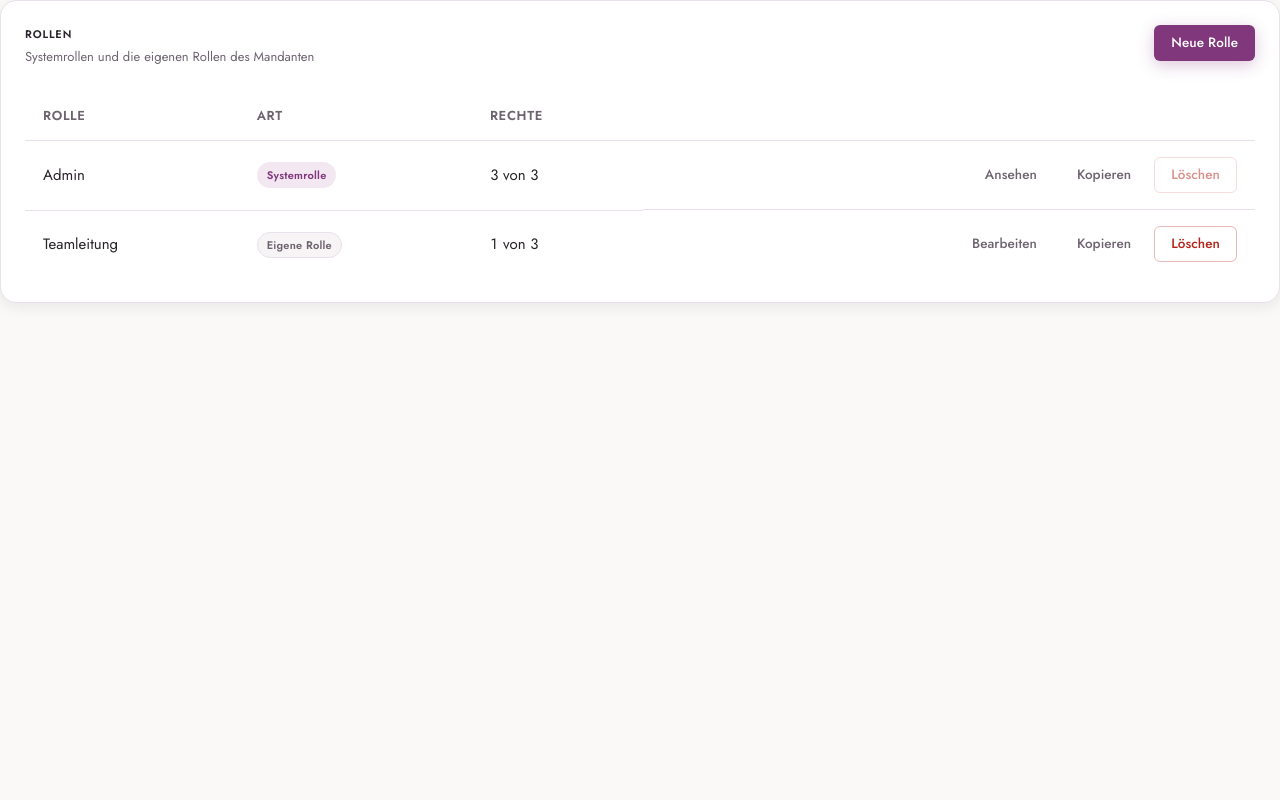
it: RolesTab (Issue #83) › a system role opens visibly locked: inputs disabled, explanation shown, copy enabled
Check: the text "Teamleitung" is shown, box [25,210,239,278]
Check: the button "Löschen" in the row of "Admin" is disabled, box [1154,157,1237,193]
Click the button "Ansehen" at (1011, 175), box [968,157,1054,193]
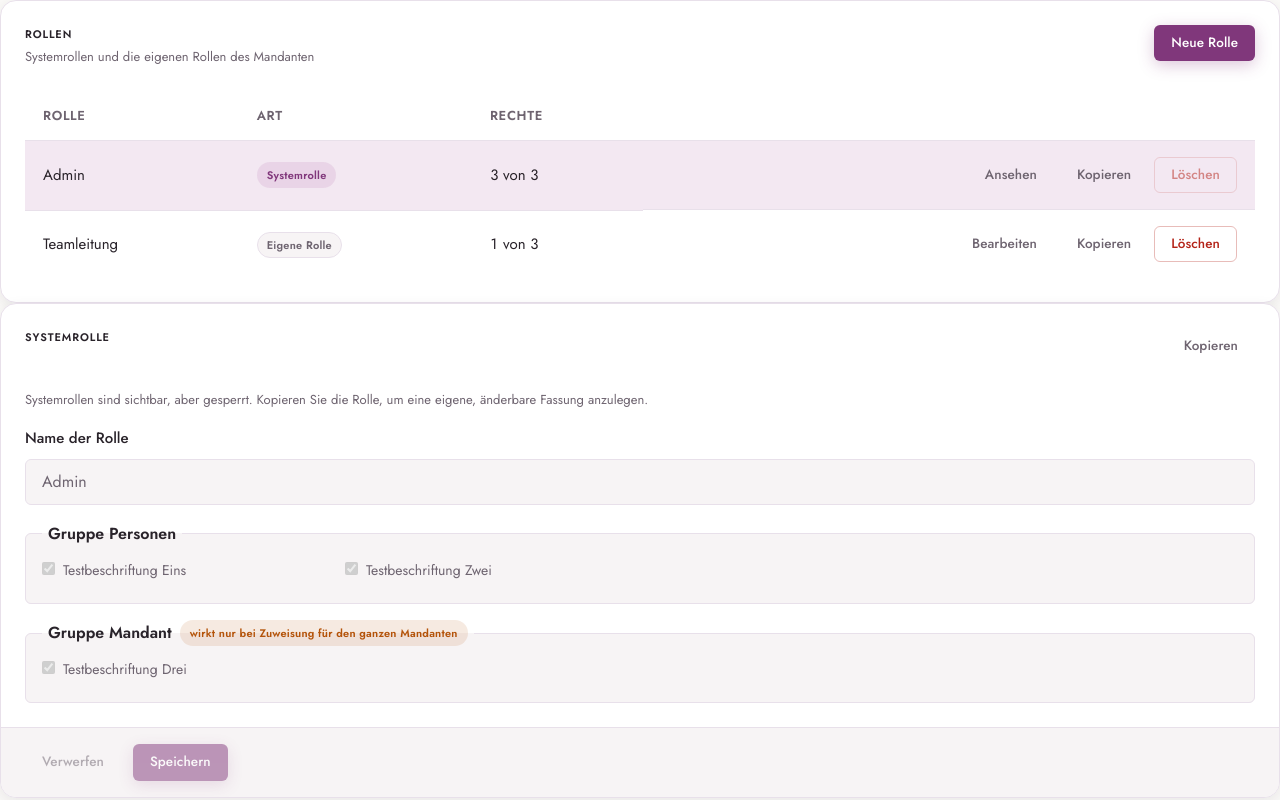
Check: the field labelled "Name der Rolle" is disabled, box [25,459,1255,505]
Check: the checkbox labelled "Testbeschriftung Eins" is disabled, box [42,562,55,575]
Check: the checkbox labelled "Testbeschriftung Zwei" is disabled, box [345,562,358,575]
